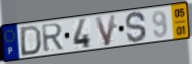4: (72, 17, 93, 50)
9: (151, 10, 169, 39)
D: (19, 24, 43, 58)
R: (40, 22, 65, 54)
S: (124, 10, 148, 44)
V: (93, 13, 118, 48)
